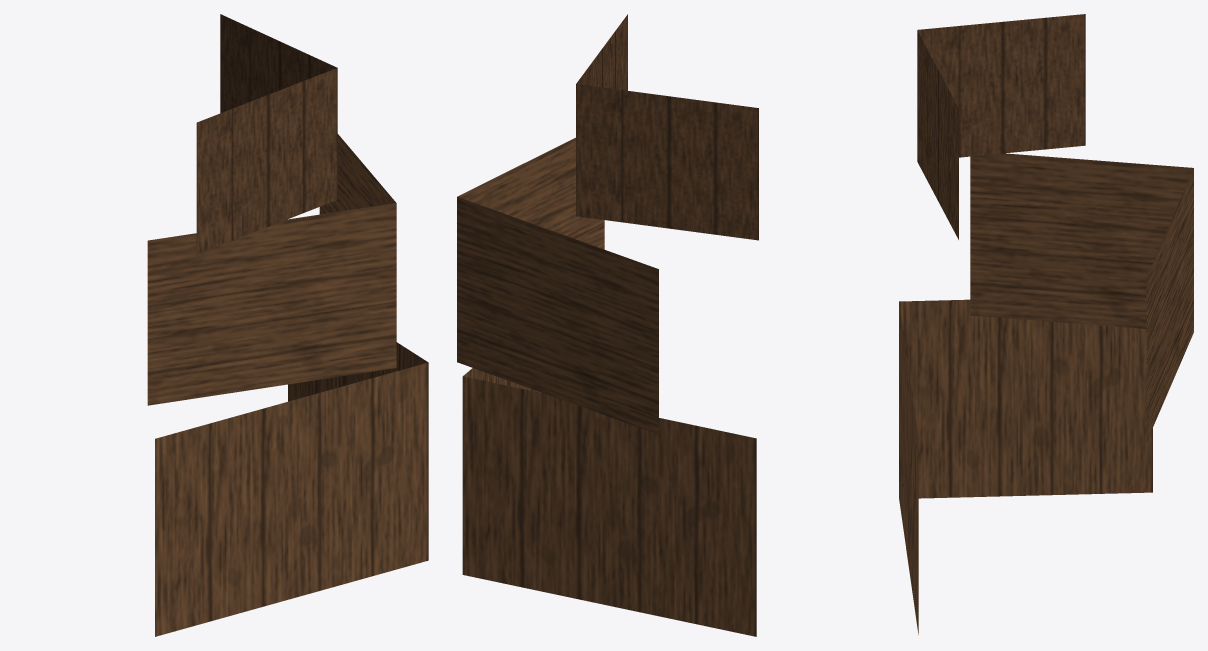
The model's file is prop_haven_crate_stack_a_lod2.glb.
3 renders of one model, left to right at view 1: azimuth 30°, elevation 25°; view 2: azimuth 150°, elevation 25°; view 3: azimuth 270°, elevation 25°, orthographic.
Visible parts, largest first — view 1: prop_haven_crate_stack_a_lod2; view 2: prop_haven_crate_stack_a_lod2; view 3: prop_haven_crate_stack_a_lod2.
Boxes of the visible parts, bbox=[...] form: prop_haven_crate_stack_a_lod2: bbox=[147, 14, 428, 636]; prop_haven_crate_stack_a_lod2: bbox=[457, 14, 758, 636]; prop_haven_crate_stack_a_lod2: bbox=[899, 14, 1193, 634].
Size of the model in its own units: 0.7662 by 1.2 by 0.649.
Materials: 1 (1 with a texture image).
